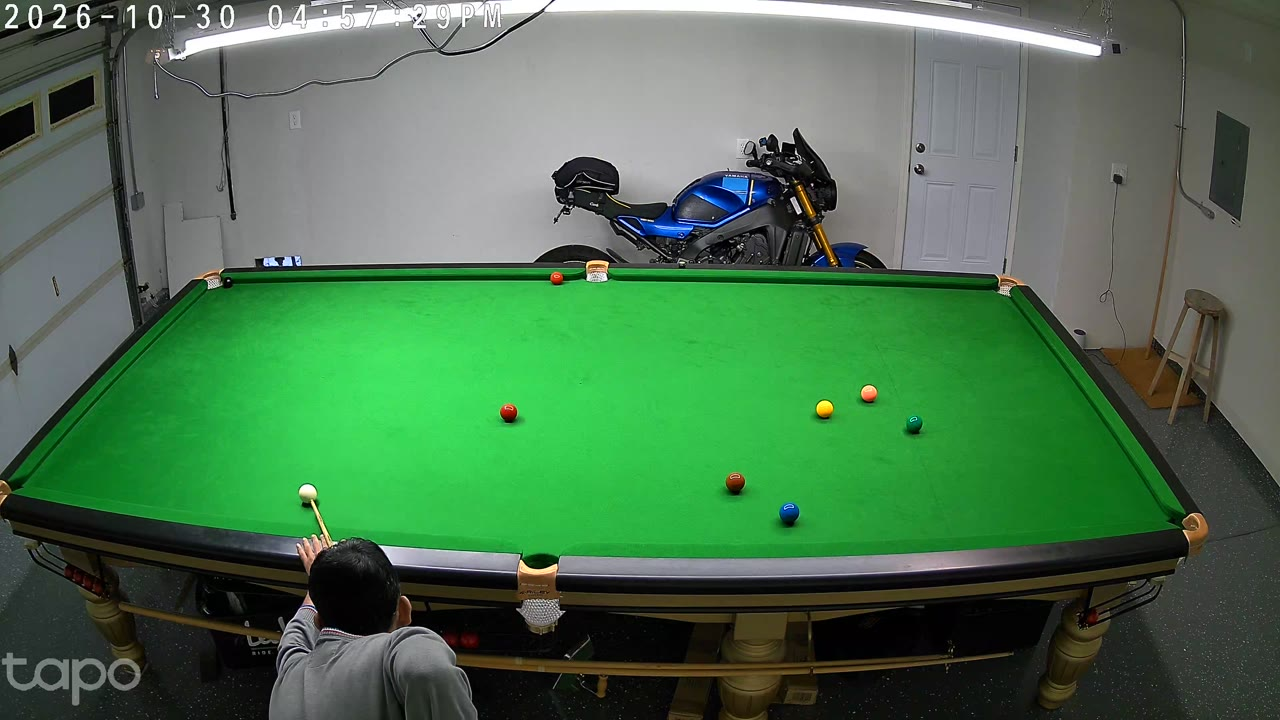blue: (779, 499, 800, 529)
brown: (725, 470, 745, 498)
green: (906, 414, 922, 436)
pink: (860, 384, 876, 404)
red: (501, 402, 517, 424), (551, 271, 562, 287)
white: (299, 482, 317, 507)
yellow: (817, 399, 833, 421)
